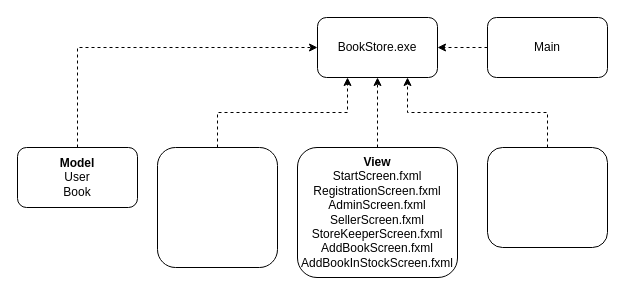
This 625x295 diagram has some shape labels left out. Here are the shapes that lost their labels. From the top down, the centre of each, then its label:
(x=217, y=207): Control XMLAdd XMLUpdate XMLReturn XMLGet
(x=547, y=197): XML Books.xml Users.xml Delivery.xml Stock.xml NeedIt.xml SaleInfo.xml
